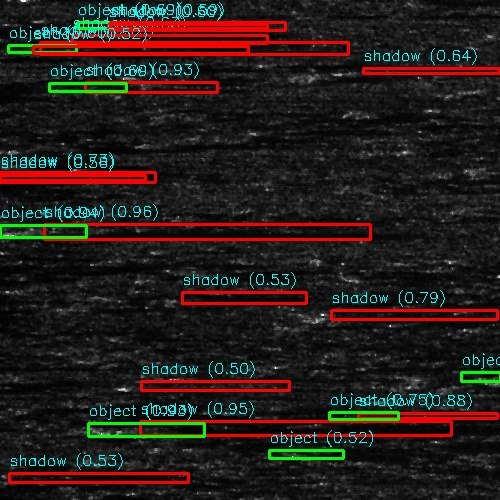rock: (368, 364, 500, 395), (0, 152, 99, 179), (0, 225, 121, 238), (218, 57, 333, 68), (0, 467, 57, 486), (99, 425, 182, 438), (153, 371, 246, 382), (191, 493, 296, 500), (175, 406, 268, 413), (359, 412, 442, 419), (152, 265, 205, 274), (71, 84, 134, 91), (456, 450, 500, 459), (0, 42, 35, 53), (461, 270, 500, 279), (320, 313, 351, 322), (130, 384, 183, 389), (76, 23, 117, 28), (130, 141, 183, 144), (324, 69, 335, 78)
shadow: (43, 225, 387, 238), (27, 152, 191, 179), (141, 425, 450, 438), (0, 42, 306, 53), (276, 57, 500, 68), (5, 467, 124, 486), (200, 371, 389, 382), (330, 69, 500, 78), (336, 313, 500, 322), (244, 493, 436, 500), (103, 84, 267, 91), (157, 384, 344, 389), (222, 406, 348, 413), (0, 176, 174, 181), (97, 23, 262, 28), (401, 412, 500, 419), (179, 265, 240, 274), (157, 141, 326, 144), (0, 297, 54, 300)
